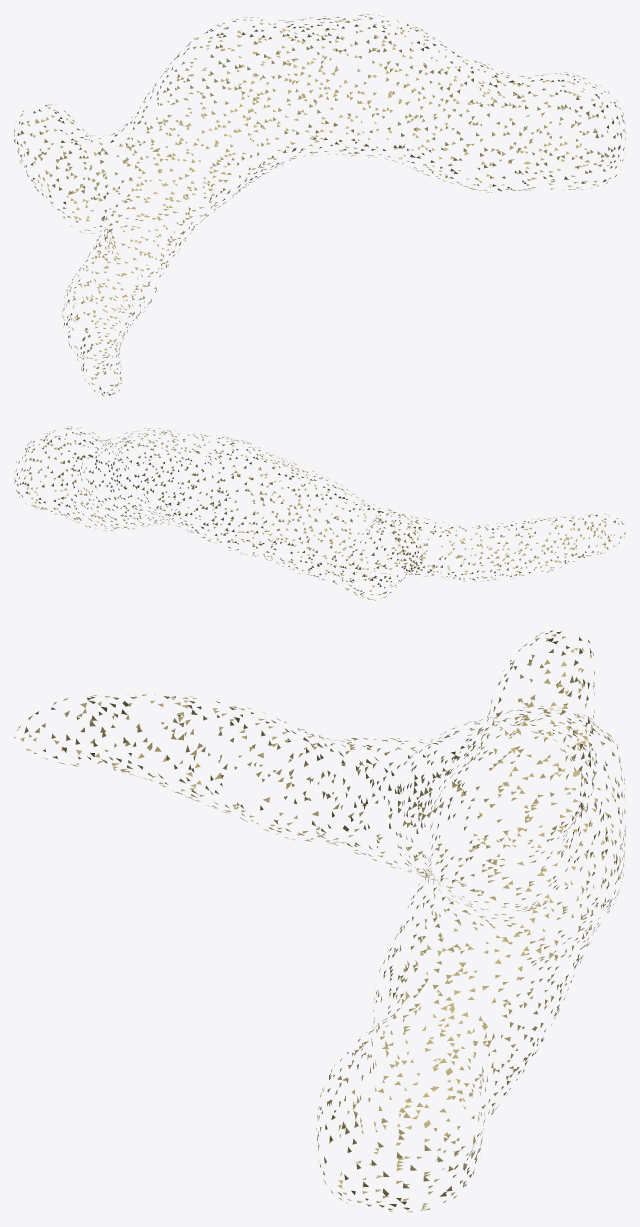
File: morph_008.glb
The picture shows the model from 3 angles, top to bottom: view 1: azimuth 30°, elevation 25°; view 2: azimuth 150°, elevation 25°; view 3: azimuth 270°, elevation 25°; orthographic projection. The views are drawn at different scales.
Bounding box in the file's own units: 117 × 32.78 × 64.94.
